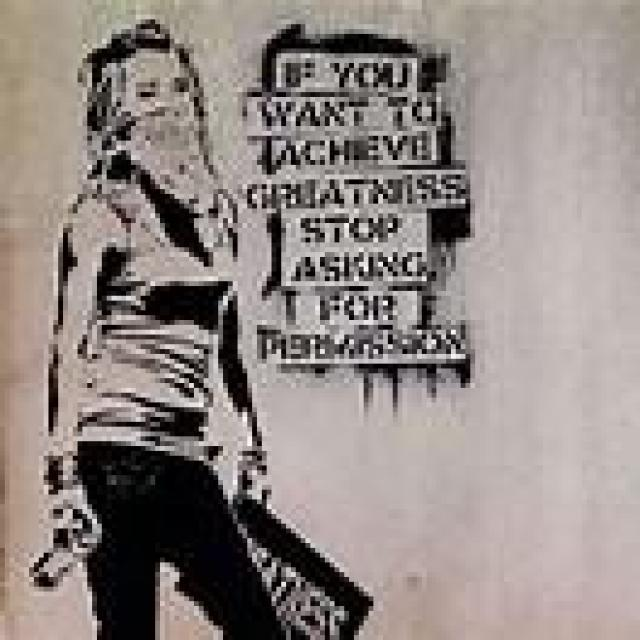nonspitting: (242, 24, 480, 404)
spitting: (24, 19, 378, 640)
